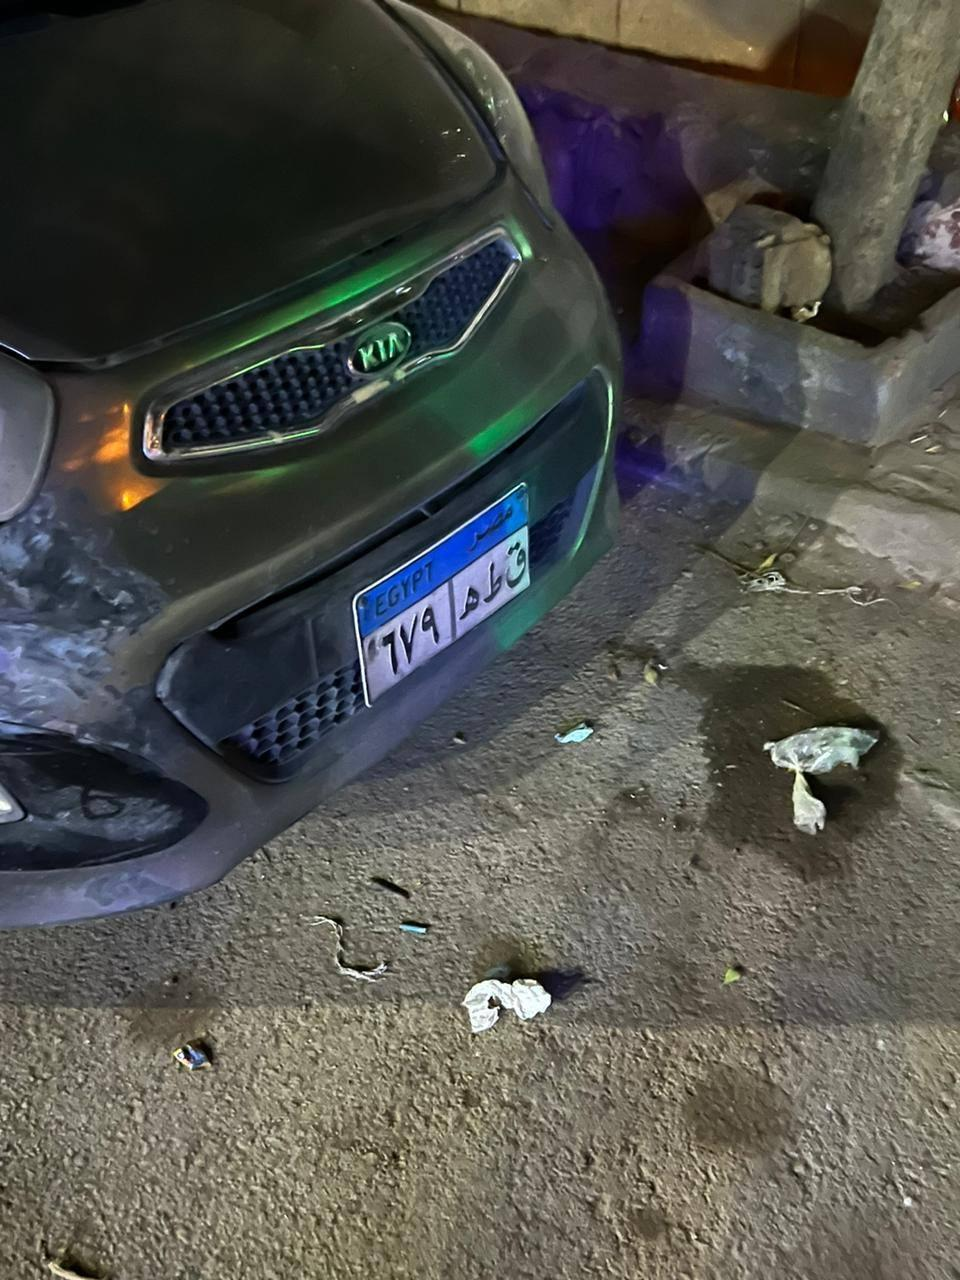6: (378, 630, 400, 679)
7: (397, 613, 422, 664)
9: (419, 604, 449, 647)
Heeh: (456, 584, 486, 626)
License Plate: (344, 478, 555, 712)
Q: (502, 542, 535, 591)
Taa: (479, 559, 509, 606)
